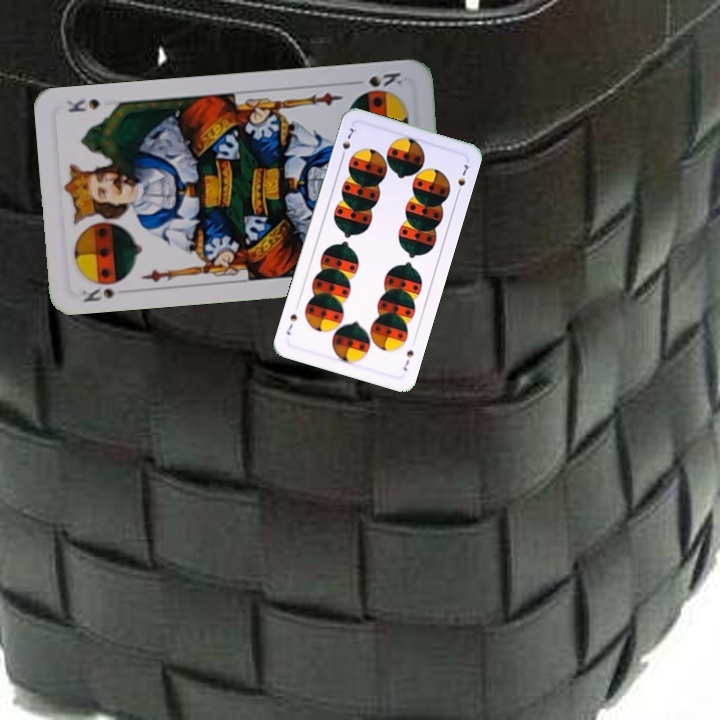S7: (337, 124, 359, 161), (399, 346, 416, 373)
SK: (78, 275, 129, 305), (364, 68, 405, 90)
